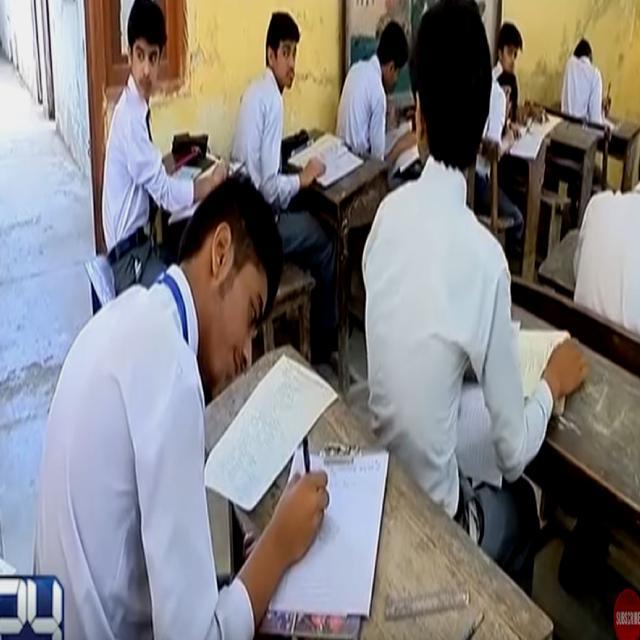cheating: (359, 0, 590, 481)
good: (27, 166, 372, 640)
